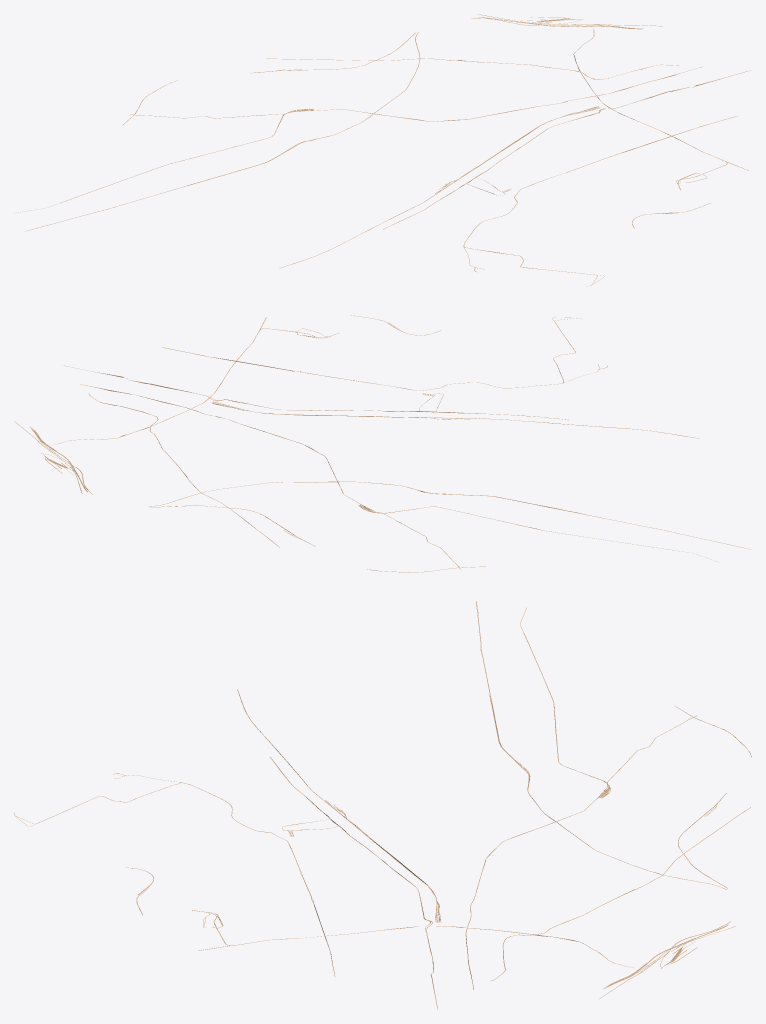
The model's file is rail.glb.
3 renders of one model, top to bottom at view 1: azimuth 30°, elevation 25°; view 2: azimuth 150°, elevation 25°; view 3: azimuth 270°, elevation 25°, orthographic. The views are drawn at different scales.
Parts seen in each view (by area): view 1: rail; view 2: rail; view 3: rail.
Part boxes in pixels (x1,y1,x2,y2): rail: [14, 14, 750, 286]; rail: [14, 315, 750, 572]; rail: [14, 601, 751, 1009].
Size of the model in its own units: 14474 by 44.17 by 11041.
